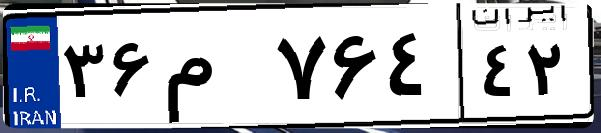2: (525, 38, 570, 115)
3: (57, 26, 110, 100)
4: (385, 28, 445, 110), (475, 38, 525, 113)
6: (330, 28, 385, 110), (110, 28, 158, 98)
7: (270, 28, 330, 110)
م: (158, 20, 270, 120)
